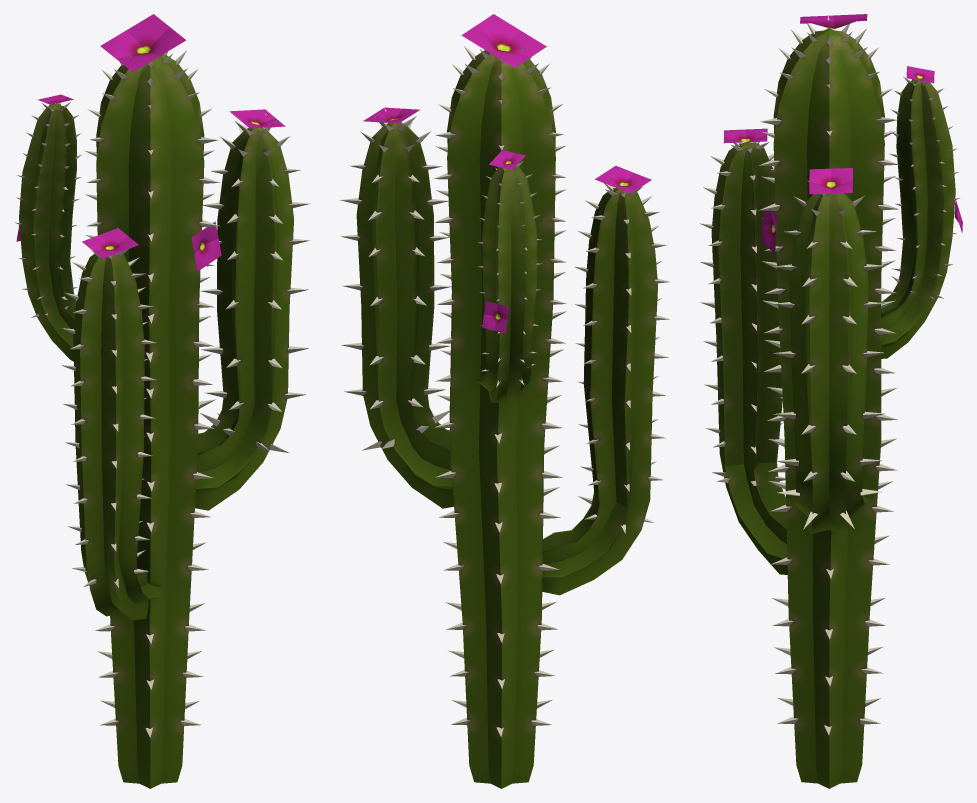
Rendered from sb_obj_nature012_Cactus01b.fbx.
3 renders of one model, left to right at view 1: azimuth 30°, elevation 25°; view 2: azimuth 150°, elevation 25°; view 3: azimuth 270°, elevation 25°, orthographic. The views are drawn at different scales.
Parts seen in each view (by area): view 1: sb_obj_nature012_Cactus01b; view 2: sb_obj_nature012_Cactus01b; view 3: sb_obj_nature012_Cactus01b.
Boxes of the visible parts, <box> form: sb_obj_nature012_Cactus01b: <box>14,14,310,788</box>; sb_obj_nature012_Cactus01b: <box>340,14,669,788</box>; sb_obj_nature012_Cactus01b: <box>699,14,962,788</box>.
Size of the model in its own units: 0.7619 by 1.99 by 0.6225.
